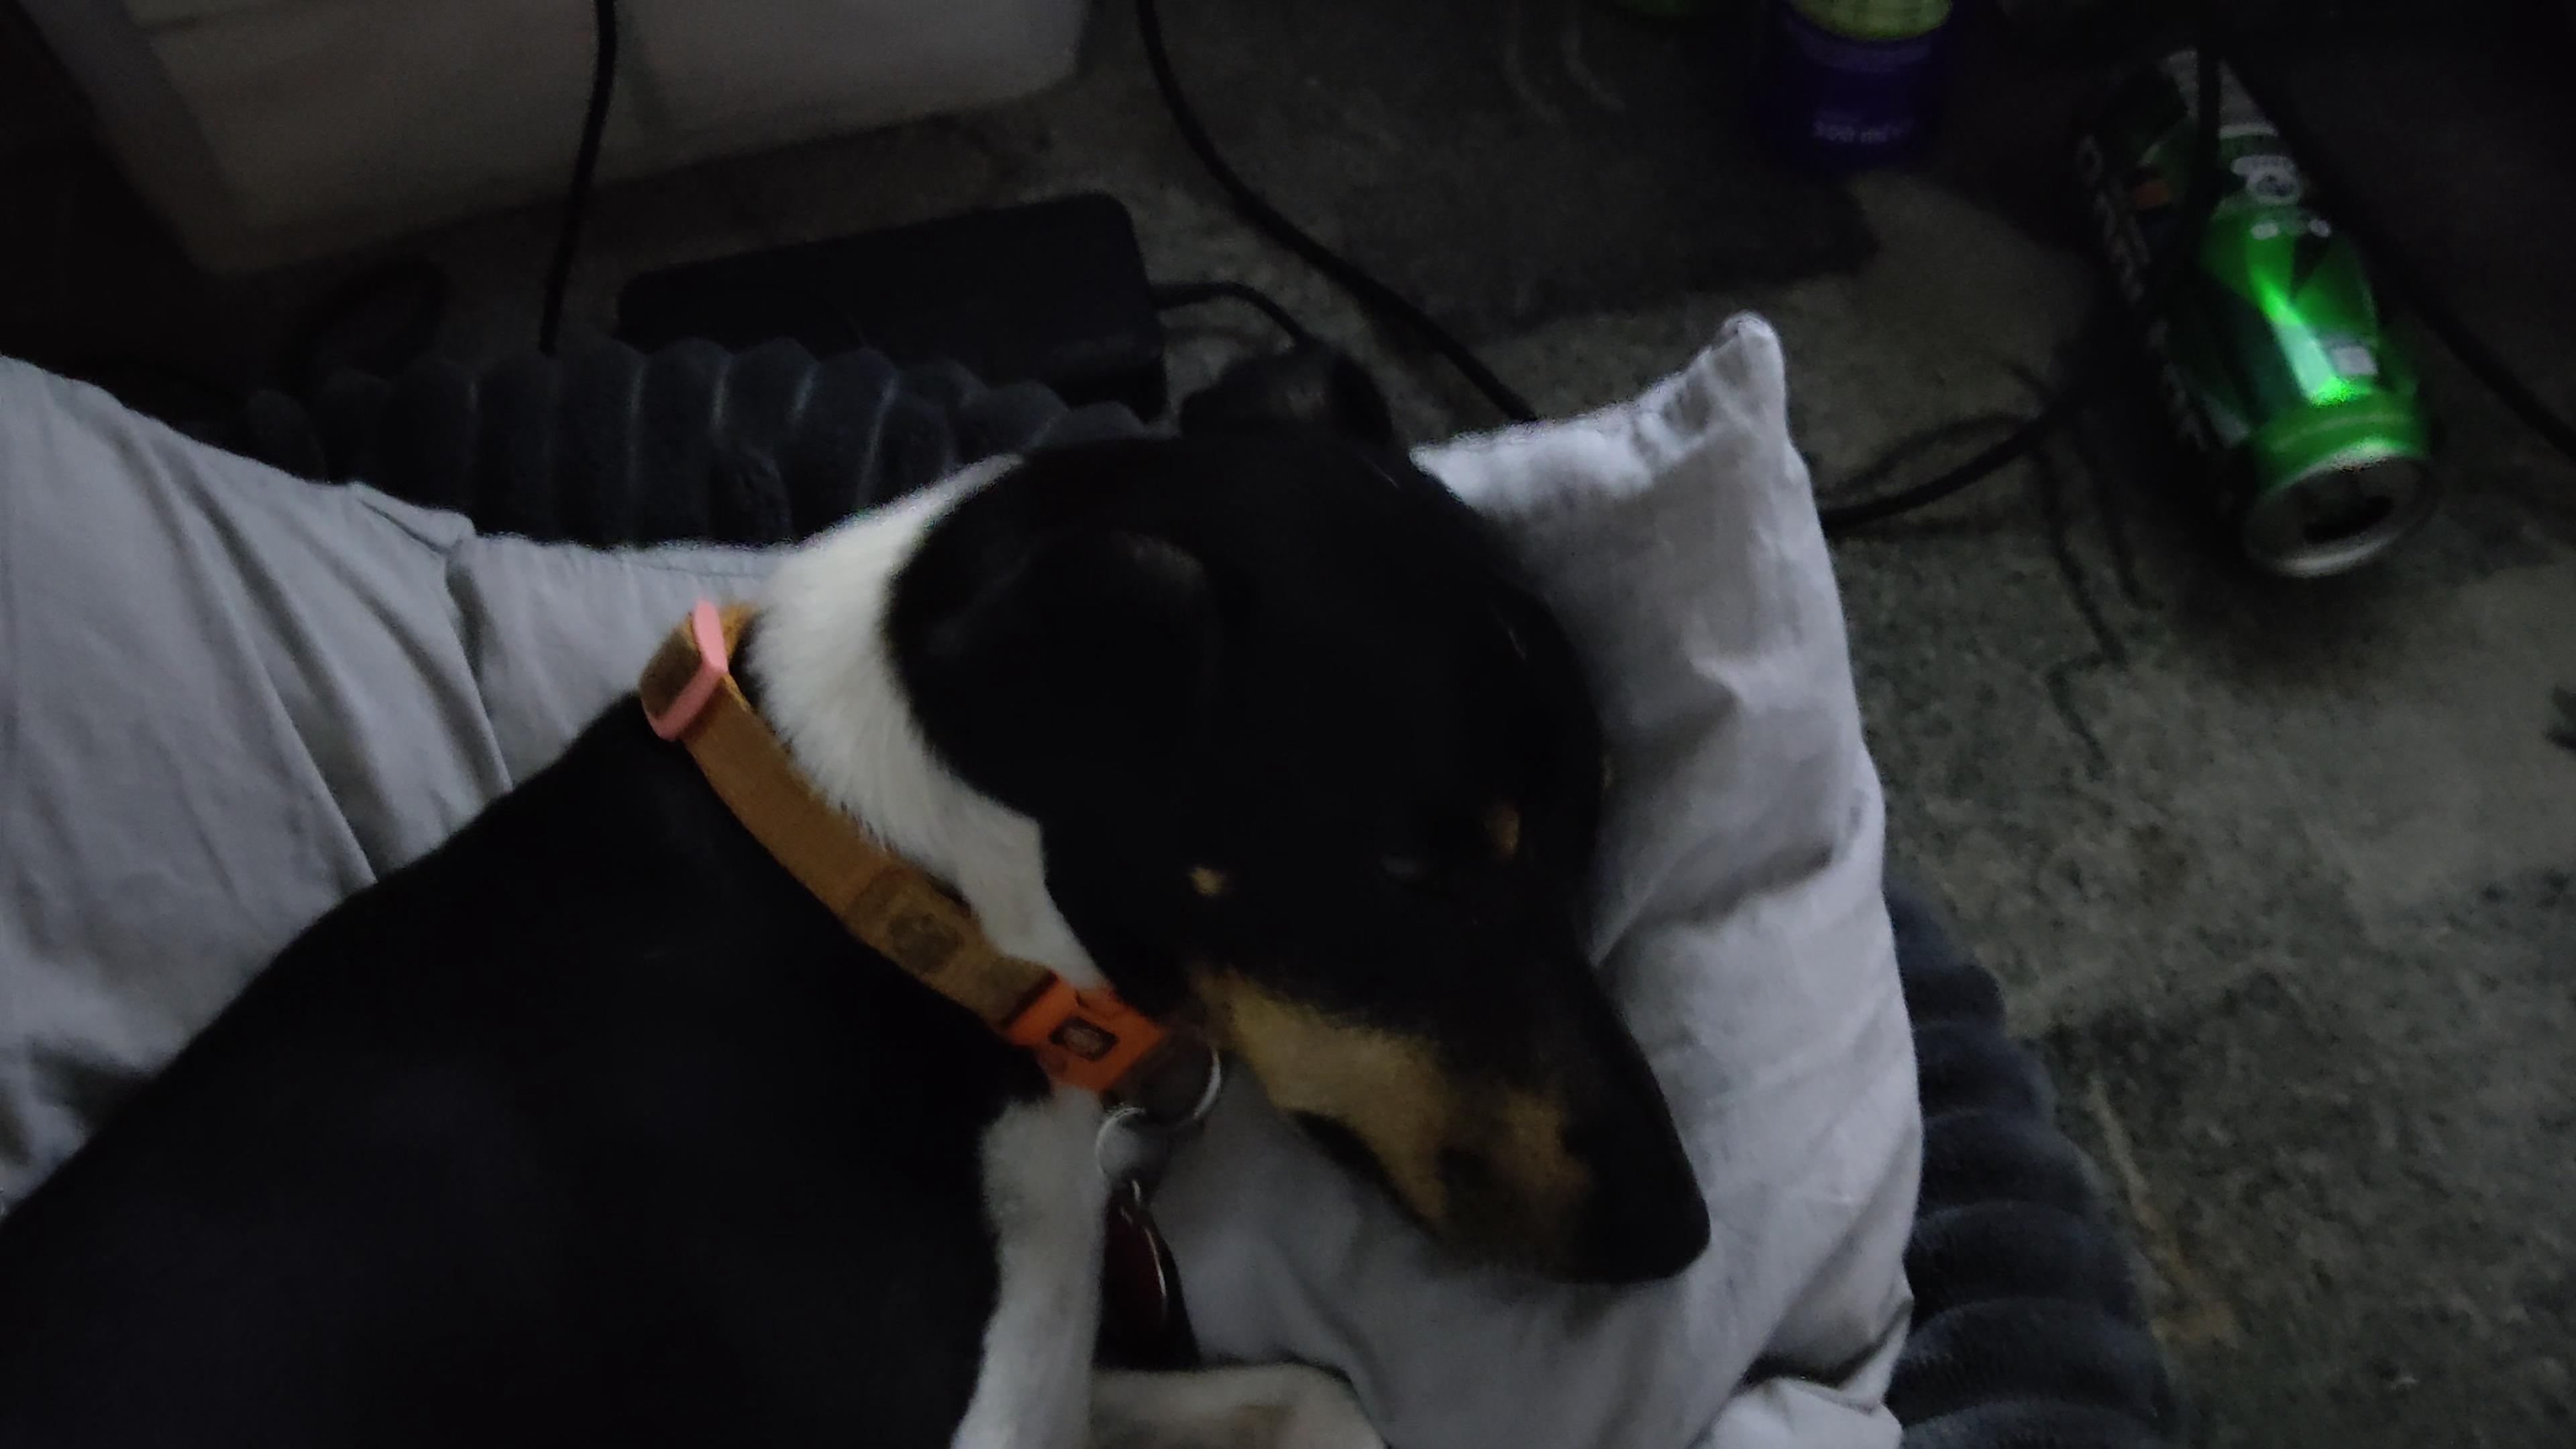Dog: (0, 295, 1757, 1449)
